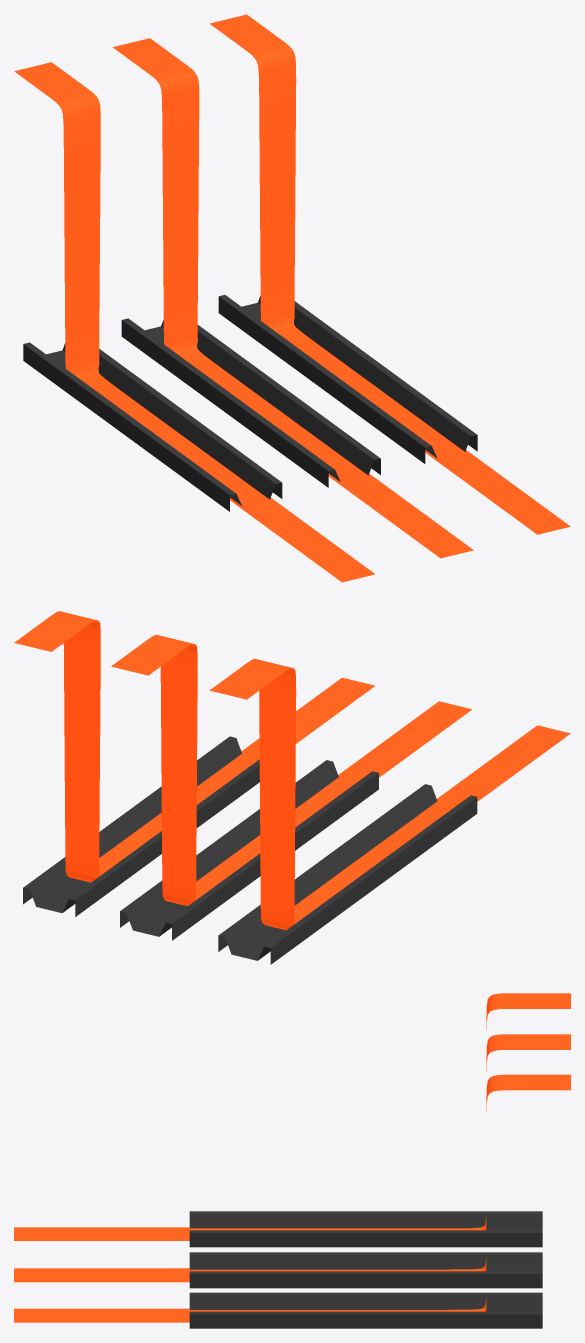
File: WaterfallsNorth.fbx
3 views of the same model, one above another, from view 1: azimuth 30°, elevation 25°; view 2: azimuth 150°, elevation 25°; view 3: azimuth 270°, elevation 25° (orthographic). The views are drawn at different scales.
Visible parts, largest first — view 1: Plane006, Plane007, Plane008, Box094, Box091, Box093; view 2: Plane006, Plane007, Plane008, Box091, Box093, Box094; view 3: Box094, Box093, Box091, Plane007, Plane006, Plane008.
Boxes of the visible parts, x1,y1,x2,y2 form: Plane006: (14, 62, 374, 582); Plane007: (113, 38, 473, 558); Plane008: (210, 14, 570, 534); Box094: (218, 295, 477, 463); Box091: (23, 342, 282, 511); Box093: (121, 318, 380, 487); Plane006: (209, 658, 570, 930); Plane007: (111, 634, 471, 906); Plane008: (14, 611, 375, 882); Box091: (218, 784, 477, 964); Box093: (120, 760, 378, 940); Box094: (23, 736, 259, 916); Box094: (189, 1292, 542, 1328); Box093: (189, 1252, 542, 1288); Box091: (189, 1211, 542, 1247); Plane007: (14, 1034, 570, 1282); Plane006: (14, 993, 570, 1240); Plane008: (14, 1074, 570, 1322).
Size of the model in its own units: 27.38 by 29.11 by 62.46.
